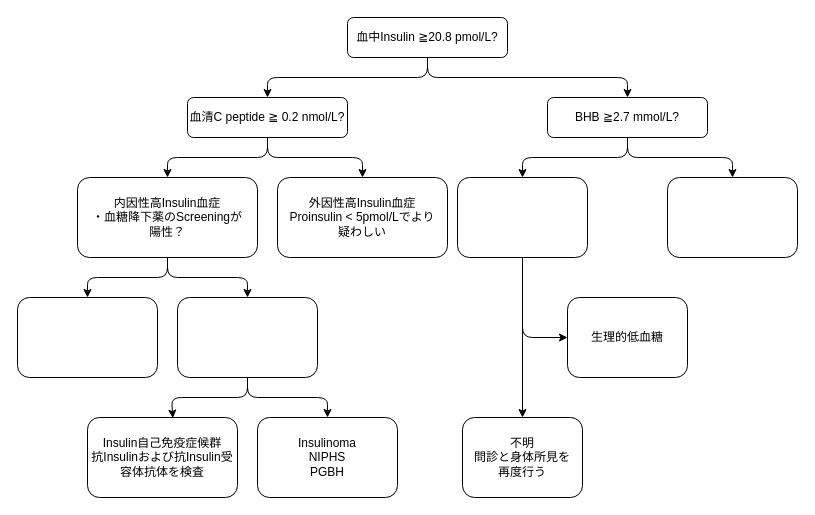
Image size: 815x515. Some labels were removed from this diagram. The centre of each missing label's shape, as x and y in pixels:
"NICTH(IGF-2産生腫瘍) を疑う →IGF-2の採血" belongs at pixel 732 217.
"ProinsulinとC peptideが 診断基準の10倍以上か？" belongs at pixel 247 337.
"低血糖症状があるか？" belongs at pixel 522 217.
"経口血糖降下薬による低血糖" belongs at pixel 87 337.
